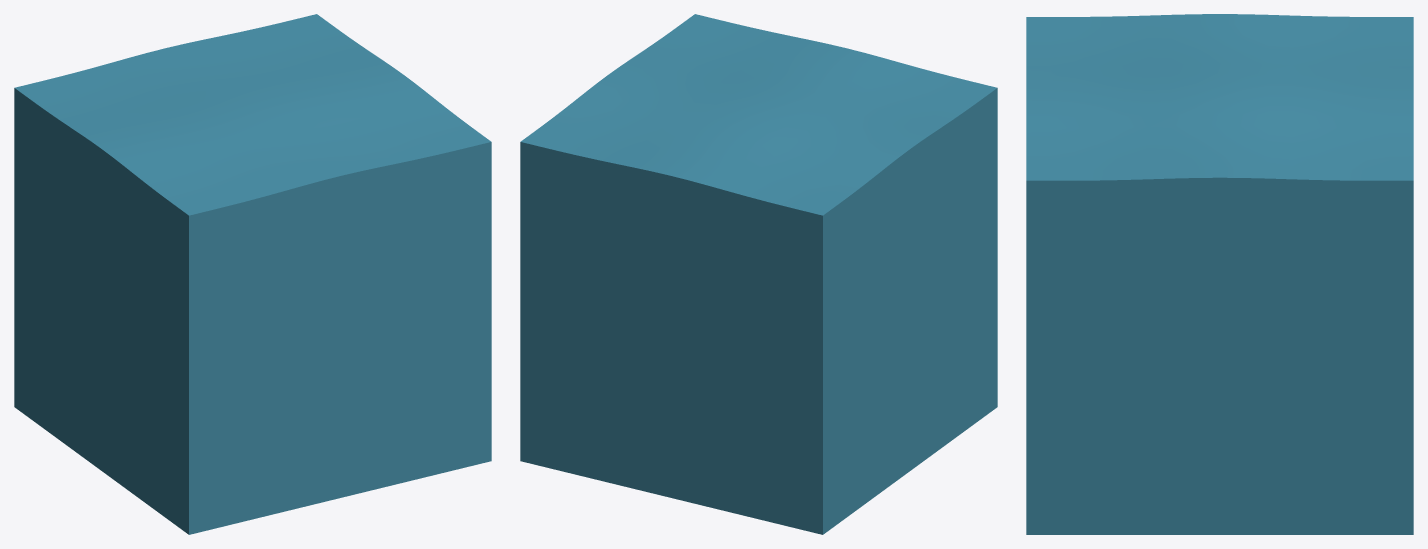
Rendered from slpool_wave03.glb.
The picture shows the model from 3 angles, left to right: view 1: azimuth 30°, elevation 25°; view 2: azimuth 150°, elevation 25°; view 3: azimuth 270°, elevation 25°; orthographic projection. The views are drawn at different scales.
Visible parts, largest first — view 1: poolWater; view 2: poolWater; view 3: poolWater.
Part boxes in pixels (x1=…): poolWater: x1=14, y1=14, x2=491, y2=534; poolWater: x1=520, y1=14, x2=997, y2=534; poolWater: x1=1026, y1=14, x2=1413, y2=534.
Size of the model in its own units: 2 by 2.05 by 2.
